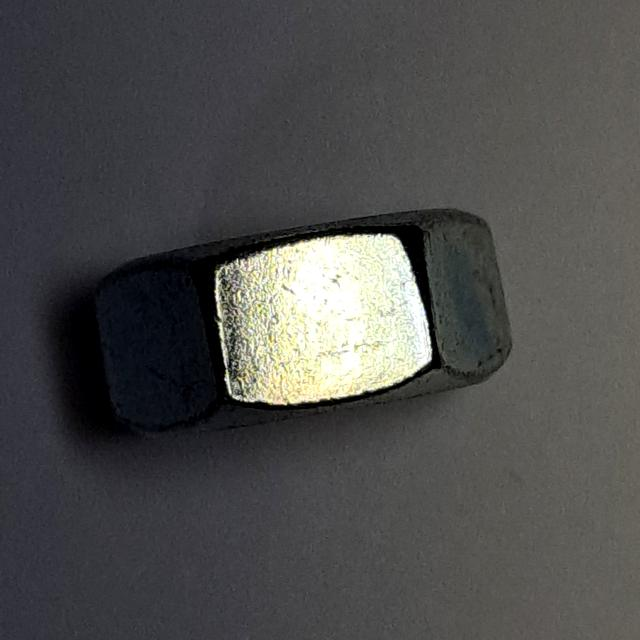Side_Excellent: (83, 188, 527, 458)
